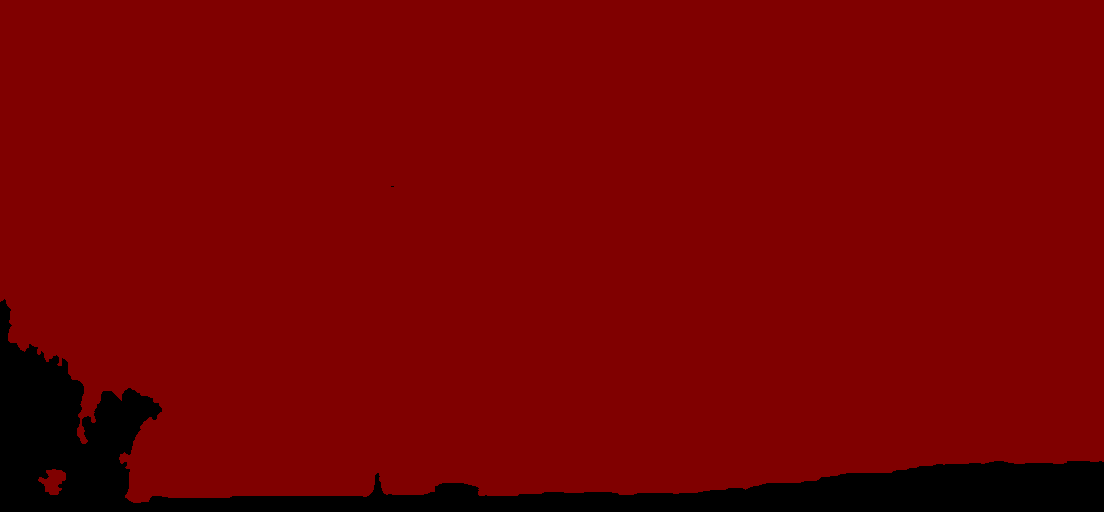Sky: (1, 1, 1103, 502)
